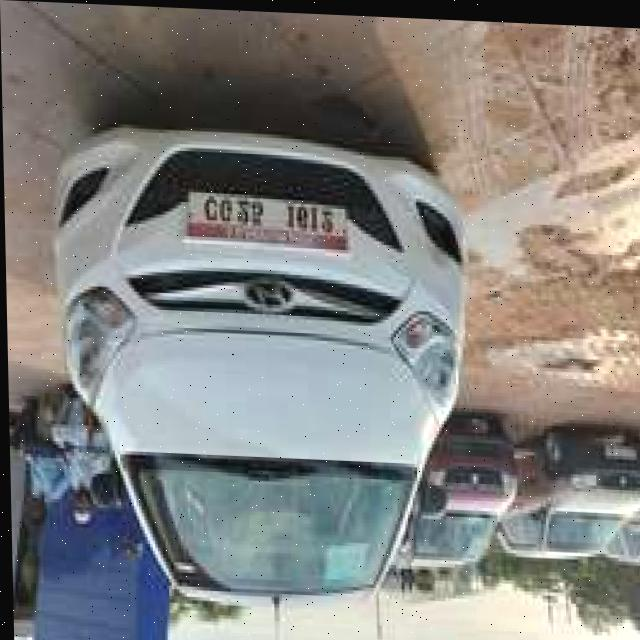plate: (185, 193, 351, 244)
